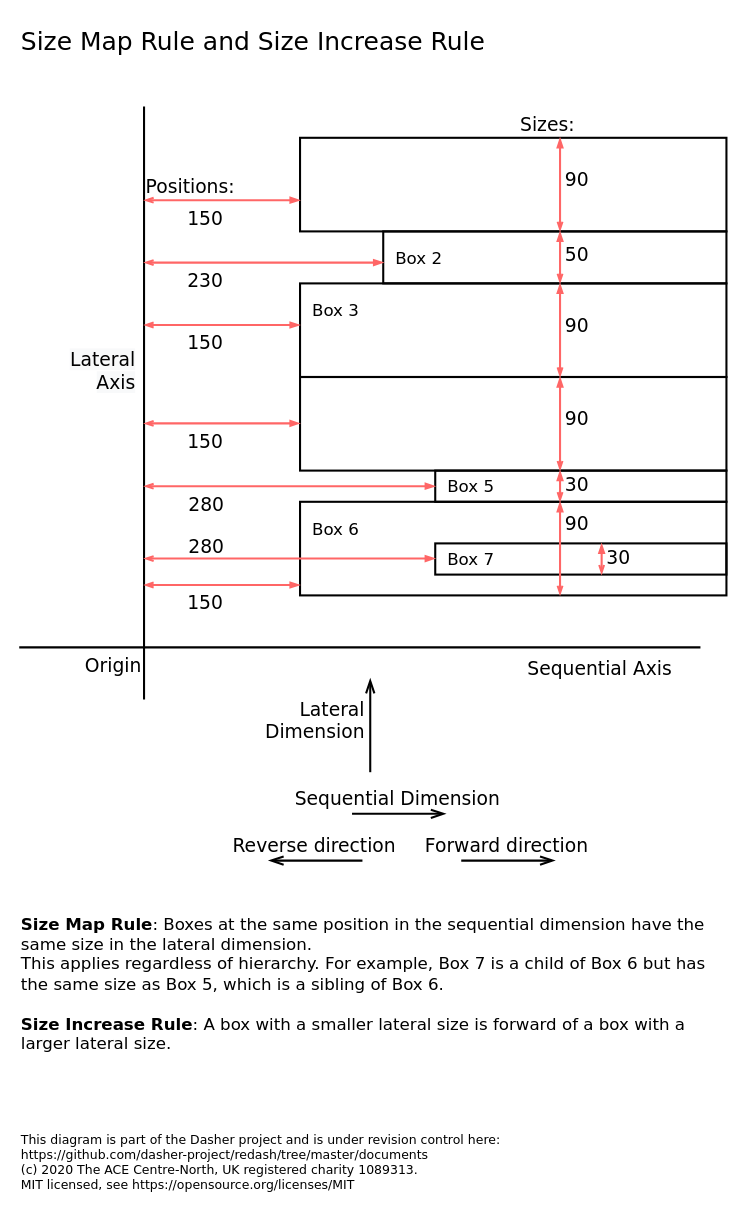
This 754x1225 diagram has some shape labels left out. Each missing label, with the centre of its shape:
Box 1: [512,184]
Box 4: [512,423]
